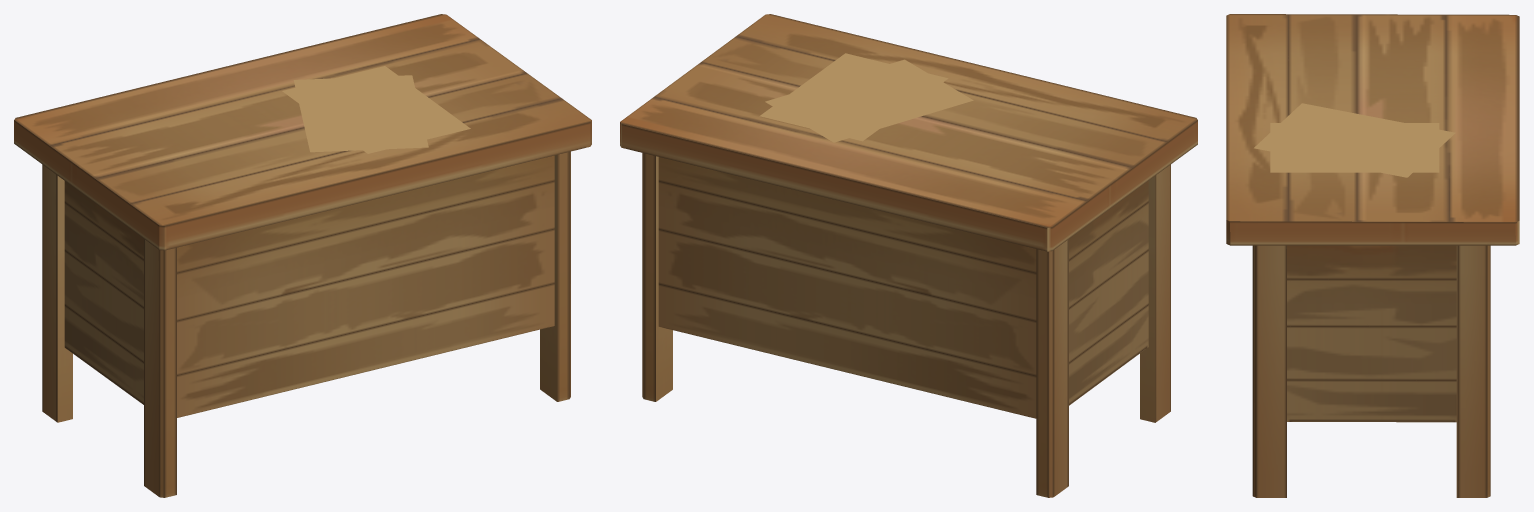
File: counter.FBX
The picture shows the model from 3 angles, left to right: view 1: azimuth 30°, elevation 25°; view 2: azimuth 150°, elevation 25°; view 3: azimuth 270°, elevation 25°; orthographic projection.
Visible parts, largest first — view 1: Plane001; view 2: Plane001; view 3: Plane001.
Boxes of the visible parts, x1,y1,x2,y2 form: Plane001: [14, 14, 591, 497]; Plane001: [620, 14, 1197, 497]; Plane001: [1226, 14, 1519, 497].
Size of the model in its own units: 168 by 106 by 100.
